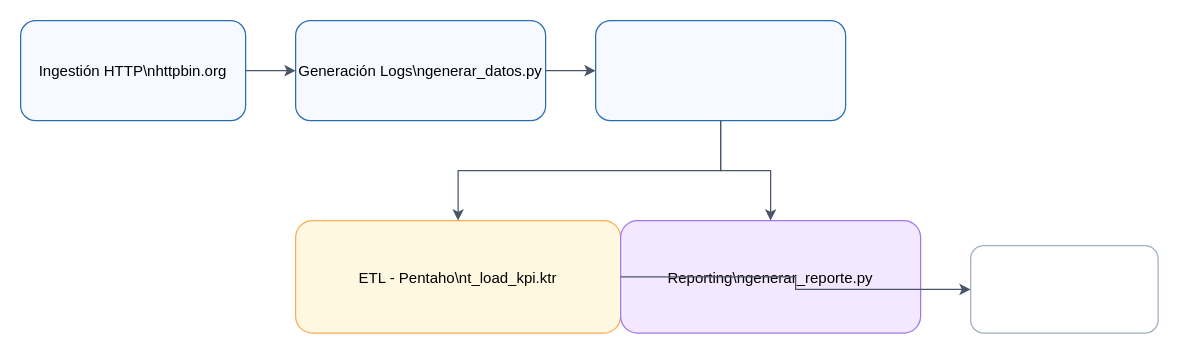
The diagram is 1179 pixels wide and 354 high, and some of its shapes have lost their labels. The shapes that lost their labels are listed below. From the top down, each one's centre as x and y in pixels, then its label:
the point at 720,70: KPI Processing\ncalcular_kpis.py
the point at 1063,288: SQLite DB\nstg / fct
